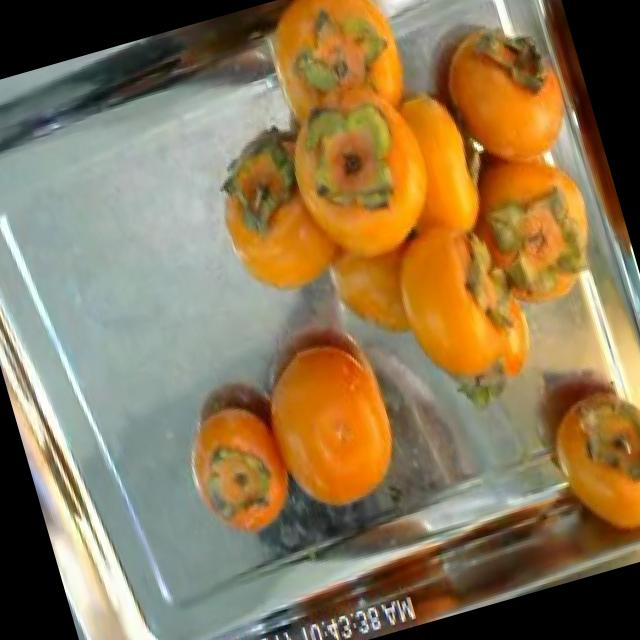Fruit: (238, 314, 422, 544), (158, 362, 320, 562)
